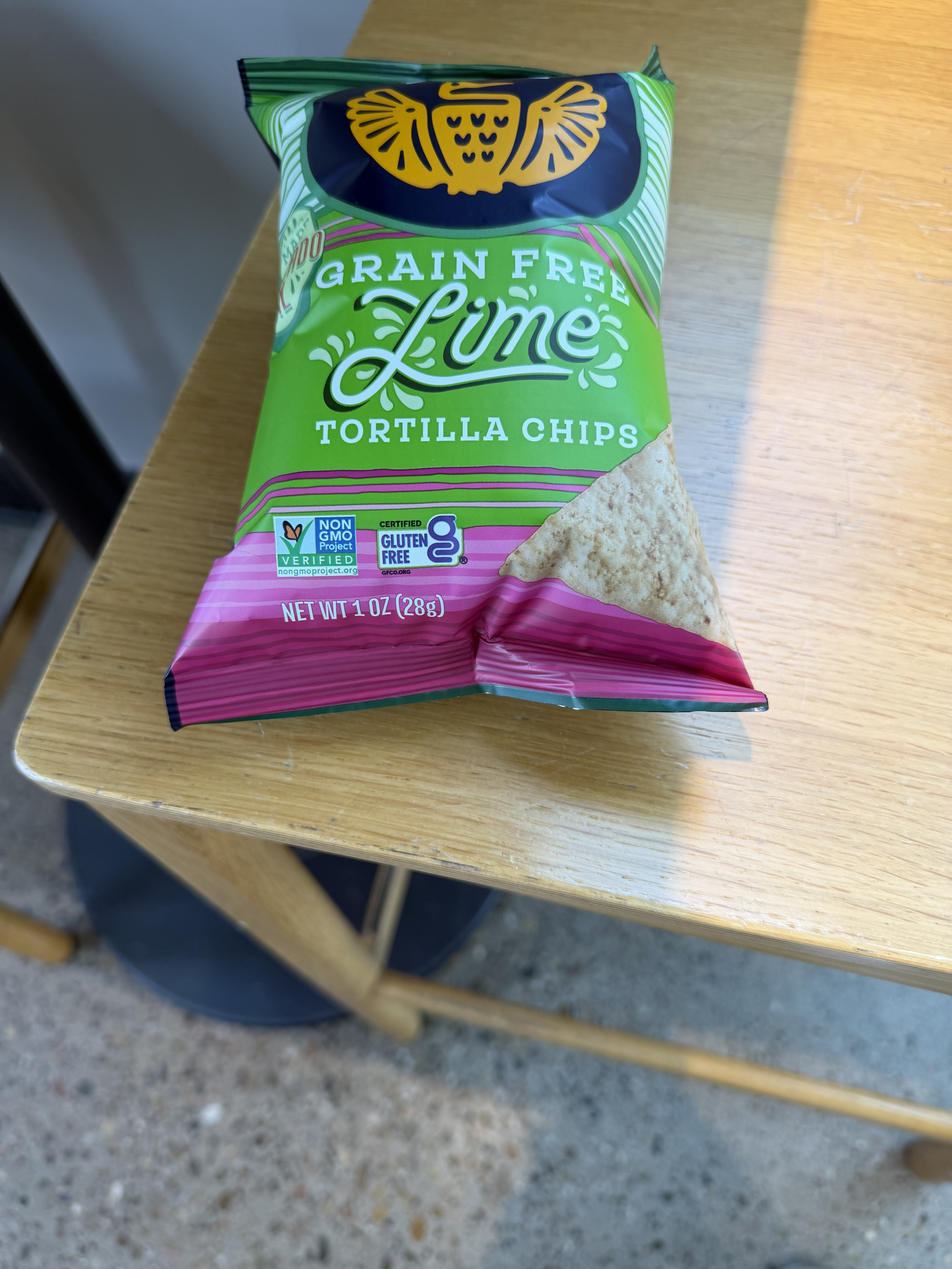lime: (203, 31, 765, 734)
